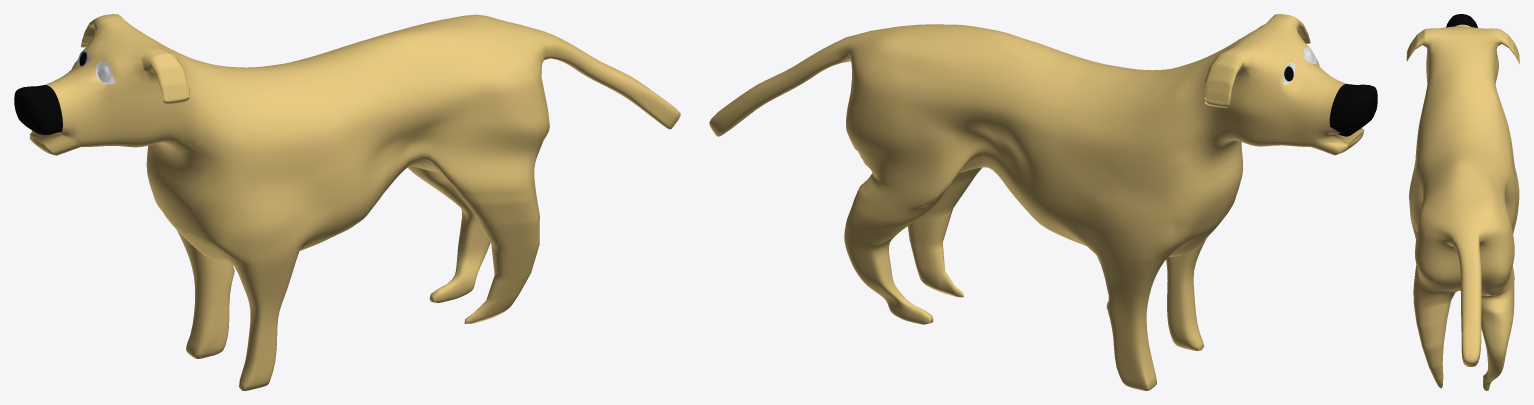
File: goldenRetriever.glb
The picture shows the model from 3 angles, left to right: view 1: azimuth 30°, elevation 25°; view 2: azimuth 150°, elevation 25°; view 3: azimuth 270°, elevation 25°; orthographic projection. The views are drawn at different scales.
Parts seen in each view (by area): view 1: Golden Retriever; view 2: Golden Retriever; view 3: Golden Retriever.
Part boxes in pixels (bbox=[...]): Golden Retriever: bbox=[14, 14, 680, 390]; Golden Retriever: bbox=[709, 14, 1377, 390]; Golden Retriever: bbox=[1406, 14, 1519, 390].
Size of the model in its own units: 11.09 by 5.77 by 2.4.
